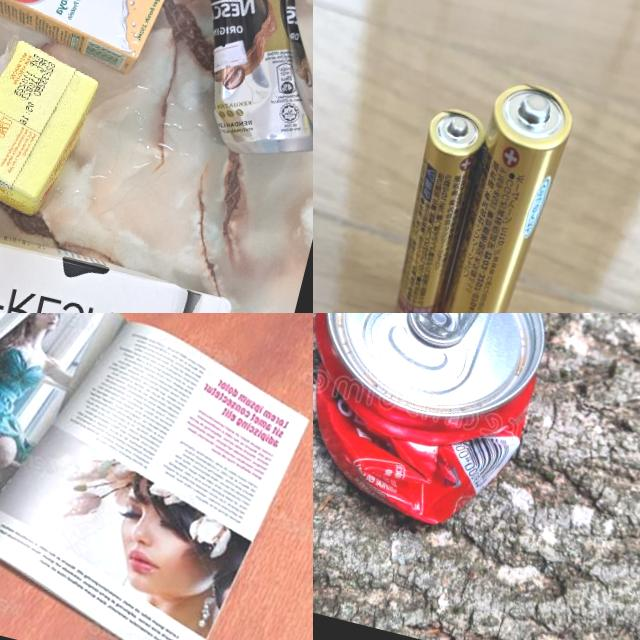aba de lata: (402, 313, 494, 355)
bateria: (423, 71, 582, 313), (369, 100, 496, 313)
caixinha: (0, 194, 241, 313), (0, 30, 108, 222), (0, 0, 186, 78)
lata: (313, 313, 566, 540), (144, 0, 313, 172)
papel: (0, 313, 313, 640)
